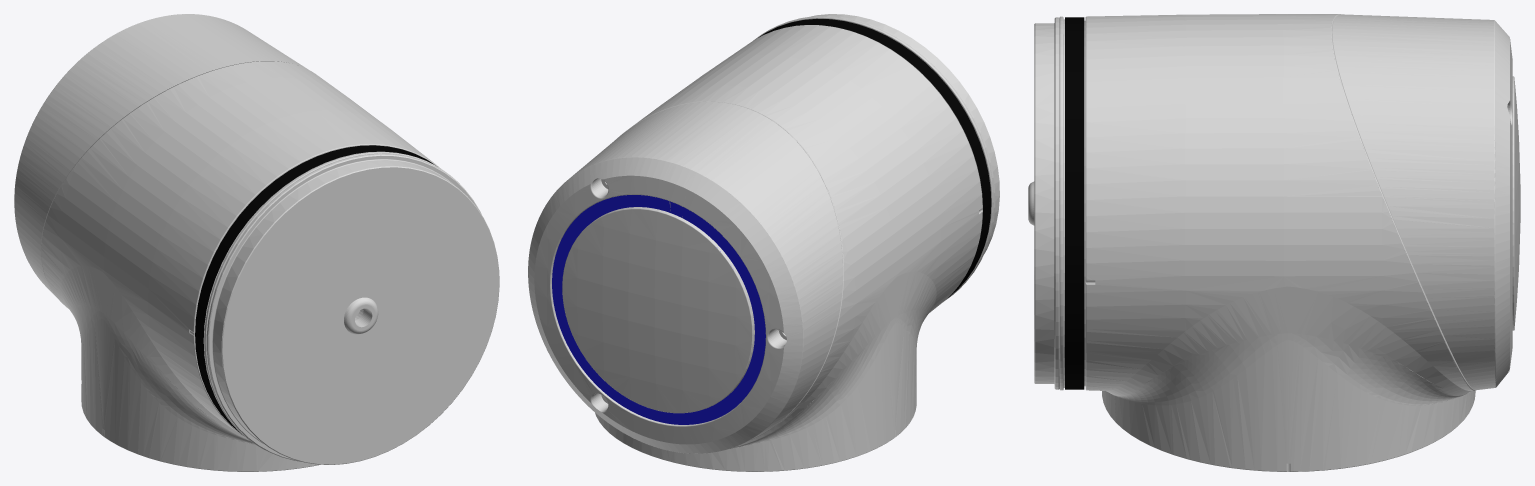
Rendered from symphony40_5_w.dae.
3 views of the same model, side by side, from view 1: azimuth 30°, elevation 25°; view 2: azimuth 150°, elevation 25°; view 3: azimuth 270°, elevation 25° (orthographic). The views are drawn at different scales.
Visible parts, largest first — view 1: link5; view 2: link5; view 3: link5.
Boxes of the visible parts, box(x1,y1,x2,y2) form: link5: box(14, 14, 499, 471); link5: box(528, 14, 999, 471); link5: box(1028, 14, 1520, 471).
Bounding box in the file's own units: 0.1177 × 0.1528 × 0.1238.
